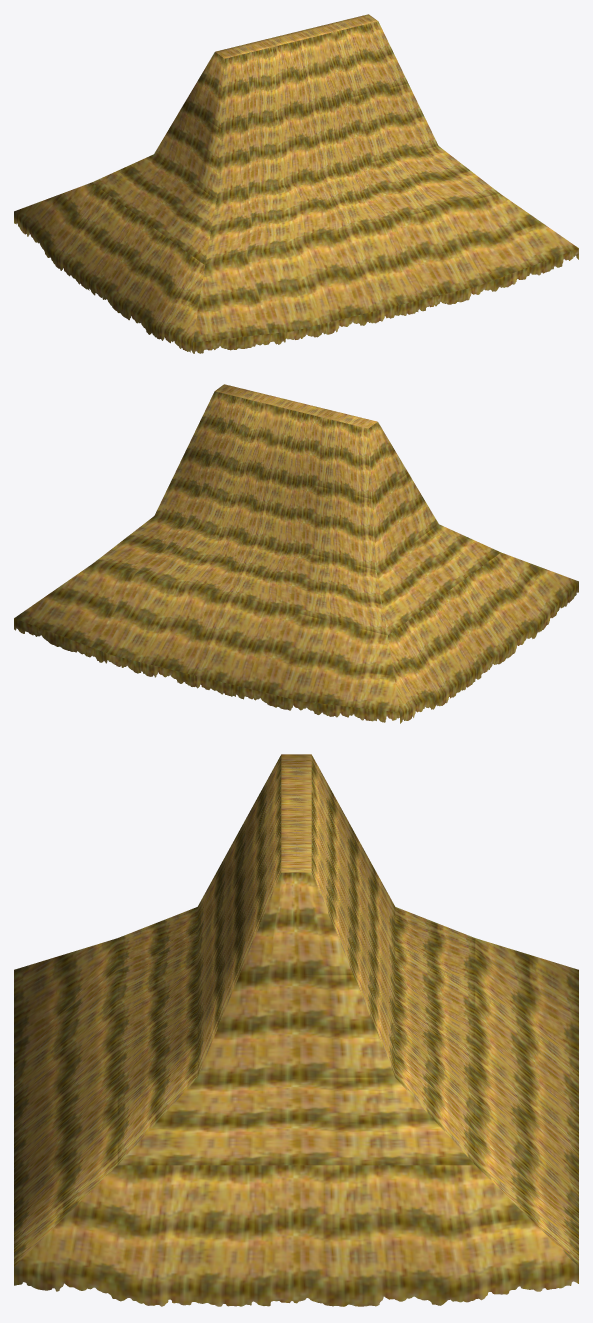
Rendered from roof_house_03.dae.
3 renders of one model, top to bottom at view 1: azimuth 30°, elevation 25°; view 2: azimuth 150°, elevation 25°; view 3: azimuth 270°, elevation 25°, orthographic. The views are drawn at different scales.
Parts seen in each view (by area): view 1: house_3.001; view 2: house_3.001; view 3: house_3.001.
Boxes of the visible parts, x1,y1,x2,y2 form: house_3.001: [14, 14, 578, 353]; house_3.001: [14, 384, 578, 723]; house_3.001: [14, 754, 578, 1306].
Size of the model in its own units: 12.26 by 9.85 by 6.67.
